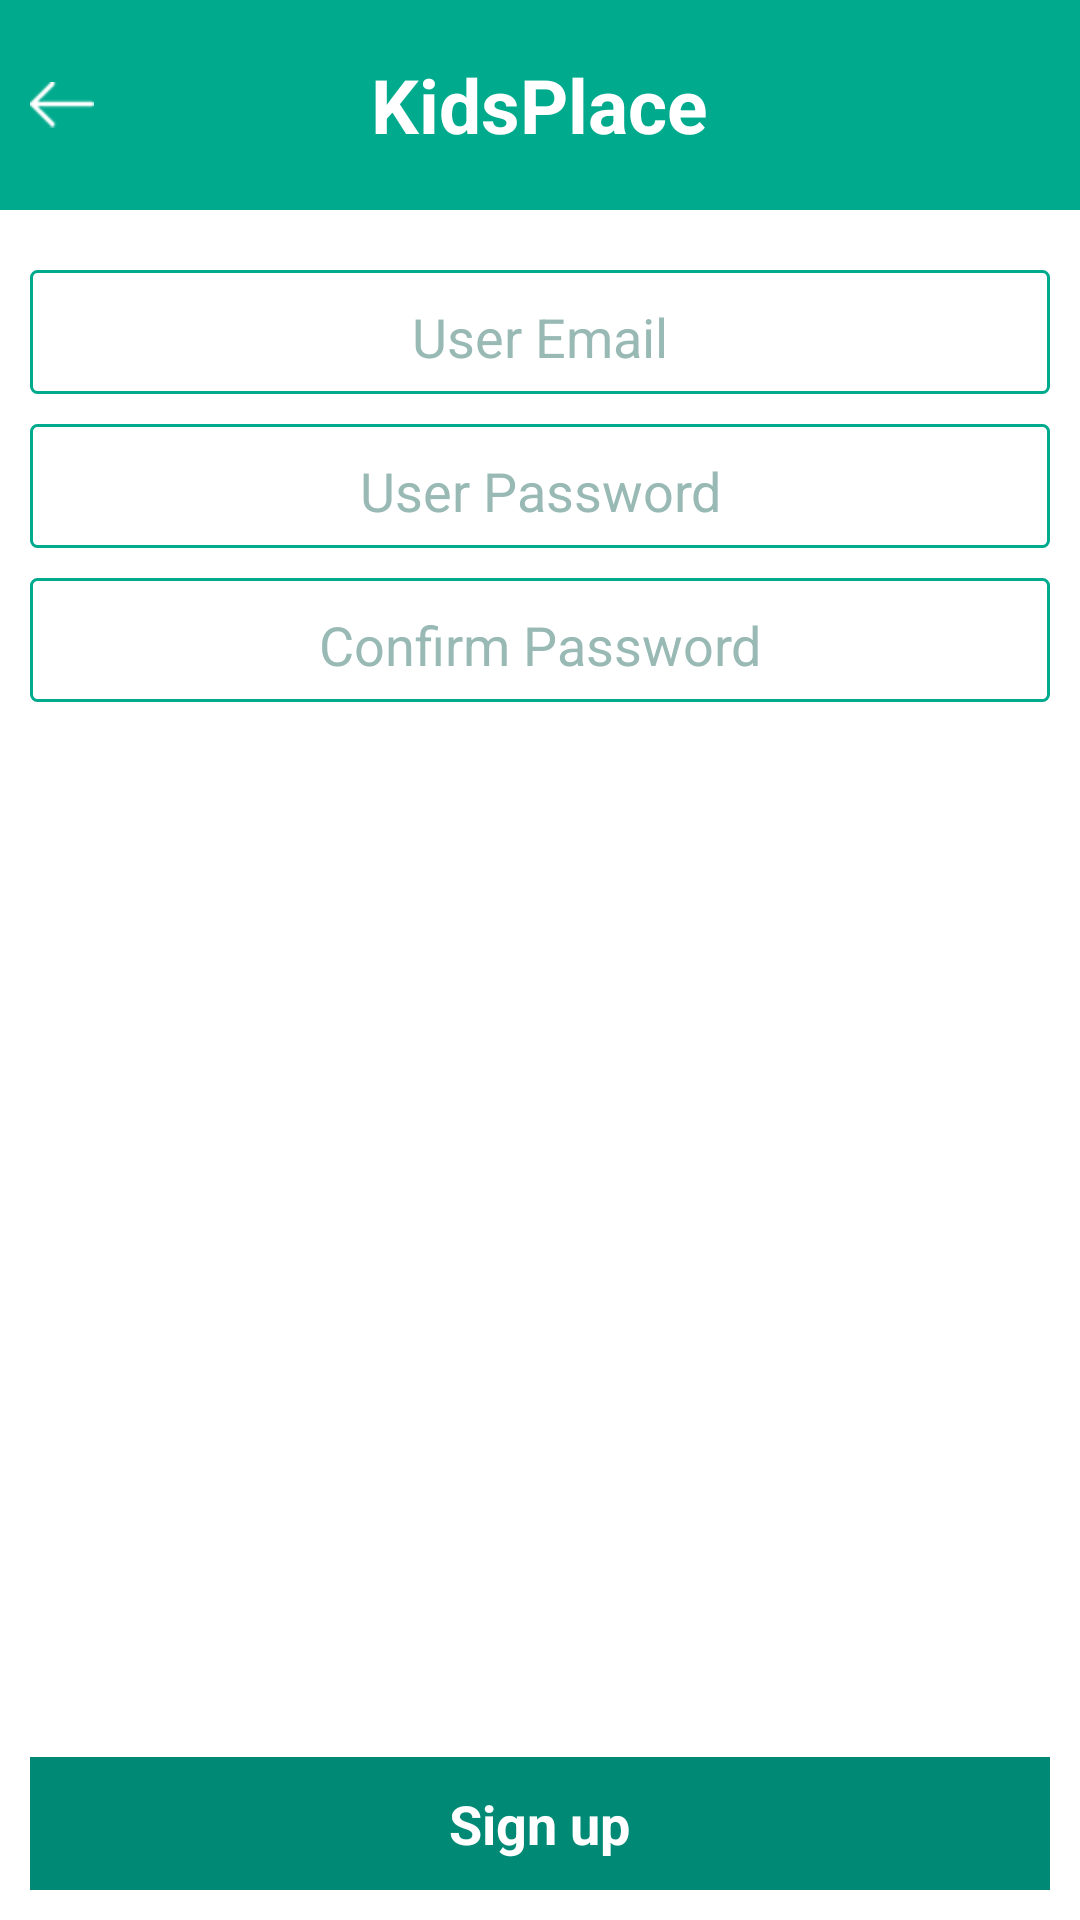

Named icons in this screenshot (1080x1920) and their centers, point (x, y):
back: point (62, 105)
